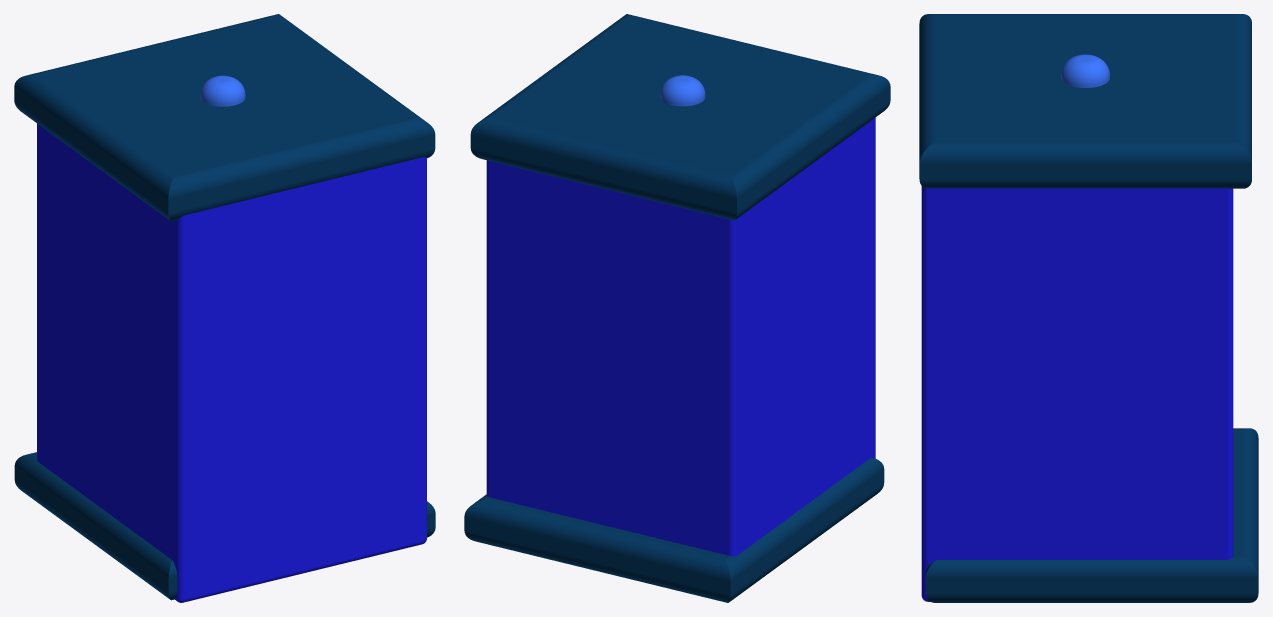
File: tardis.gltf
3 renders of one model, left to right at view 1: azimuth 30°, elevation 25°; view 2: azimuth 150°, elevation 25°; view 3: azimuth 270°, elevation 25°, orthographic. The views are drawn at different scales.
Visible parts, largest first — view 1: Glass Box, Rectangle (×2), Roundel; view 2: Glass Box, Rectangle (×2), Roundel; view 3: Glass Box, Rectangle (×2), Roundel.
Part boxes in pixels (bbox=[...]): Glass Box: bbox=[37, 123, 426, 602]; Rectangle (×2): bbox=[14, 14, 435, 600]; Roundel: bbox=[200, 75, 245, 106]; Glass Box: bbox=[486, 117, 875, 556]; Rectangle (×2): bbox=[464, 14, 890, 602]; Roundel: bbox=[660, 75, 705, 106]; Glass Box: bbox=[921, 186, 1233, 601]; Rectangle (×2): bbox=[919, 14, 1258, 602]; Roundel: bbox=[1061, 54, 1109, 87].
Size of the model in its own units: 4.05 by 6.33 by 4.08.
